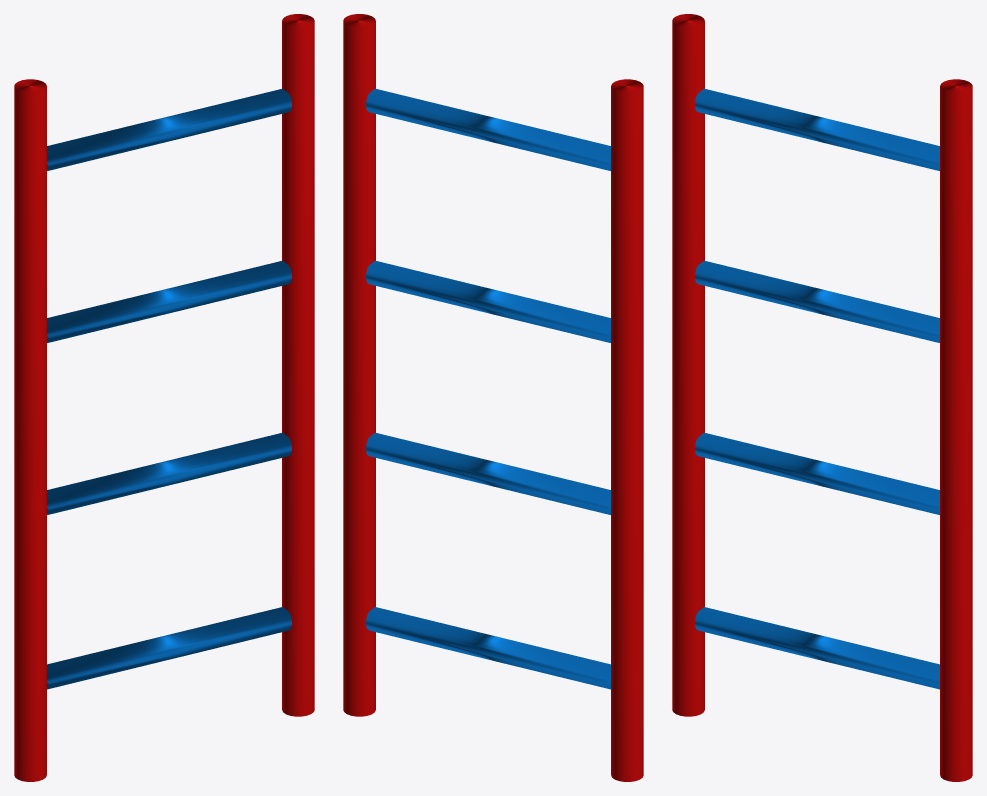
File: merdiven_asset.fbx
3 views of the same model, side by side, from view 1: azimuth 30°, elevation 25°; view 2: azimuth 150°, elevation 25°; view 3: azimuth 330°, elevation 25° (orthographic).
Parts seen in each view (by area): view 1: Cylinder; view 2: Cylinder; view 3: Cylinder.
Part boxes in pixels (x1,y1,x2,y2): Cylinder: (14,14,314,781); Cylinder: (343,14,643,781); Cylinder: (672,14,972,781).
Size of the model in its own units: 359 by 799 by 34.44.
